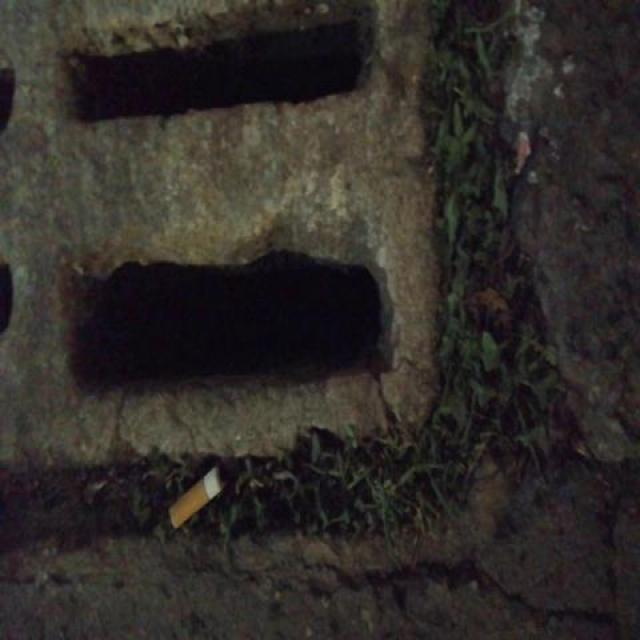non-organic waste: (164, 458, 232, 534)
